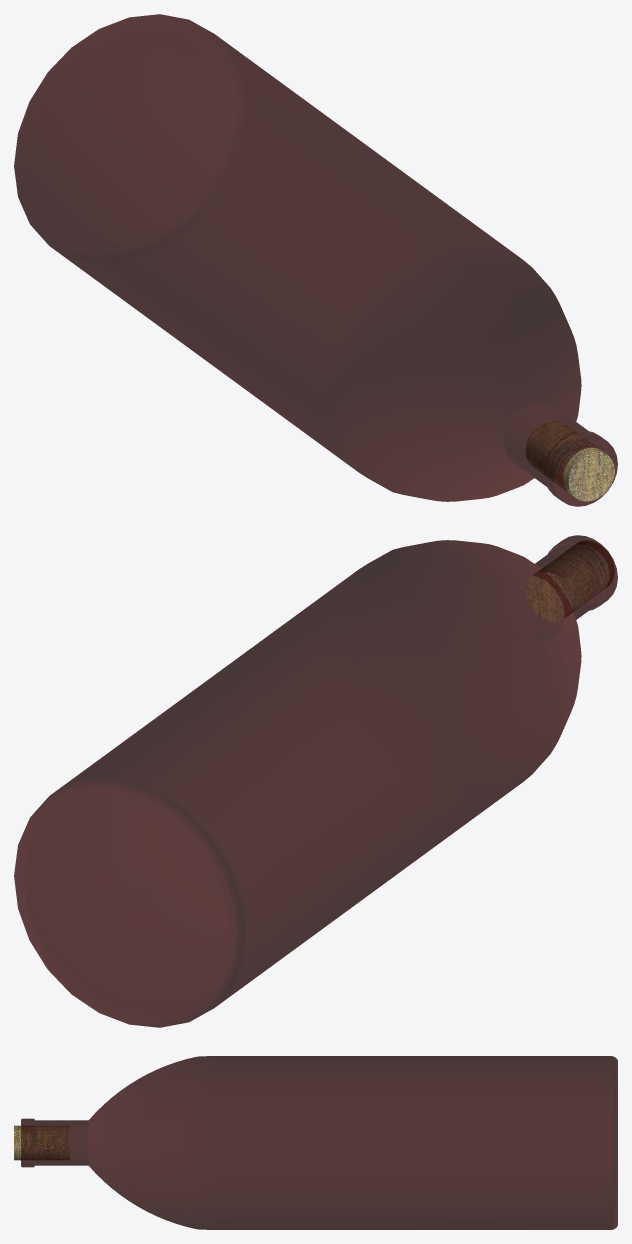
File: model_scale.obj
3 views of the same model, one above another, from view 1: azimuth 30°, elevation 25°; view 2: azimuth 150°, elevation 25°; view 3: azimuth 270°, elevation 25° (orthographic). The views are drawn at different scales.
Parts seen in each view (by area): view 1: mesh1_mesh1-geometry; view 2: mesh1_mesh1-geometry; view 3: mesh1_mesh1-geometry.
Boxes of the visible parts, x1,y1,x2,y2 form: mesh1_mesh1-geometry: [14, 14, 617, 506]; mesh1_mesh1-geometry: [14, 535, 617, 1027]; mesh1_mesh1-geometry: [14, 1056, 617, 1229].
Size of the model in its own units: 0.0421 by 0.0421 by 0.1457.
